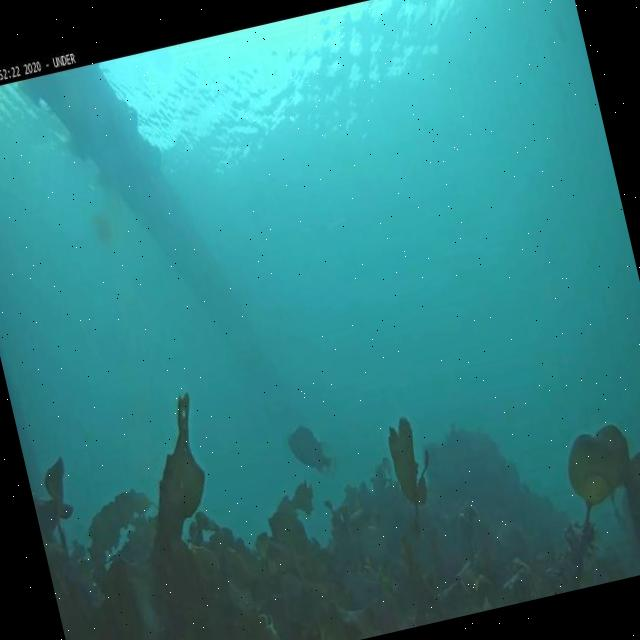fish: (283, 419, 335, 478)
